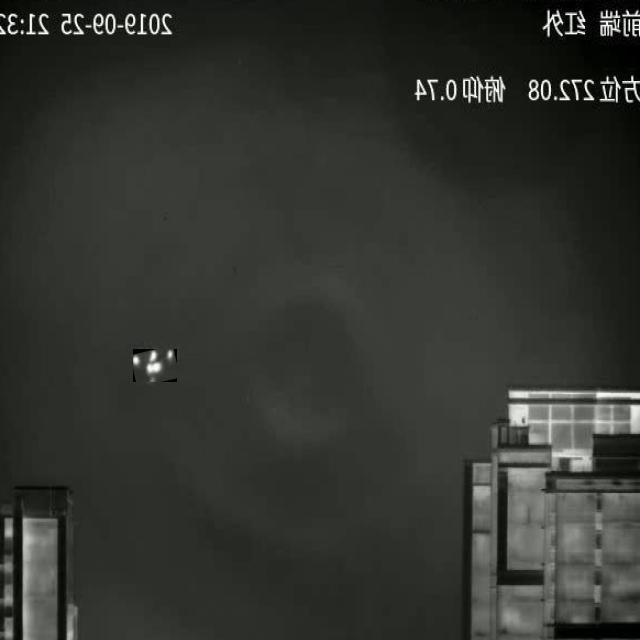drone: (133, 349, 174, 382)
